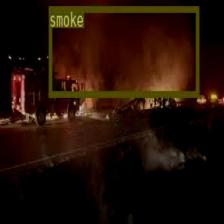smoke: (48, 5, 199, 96)
